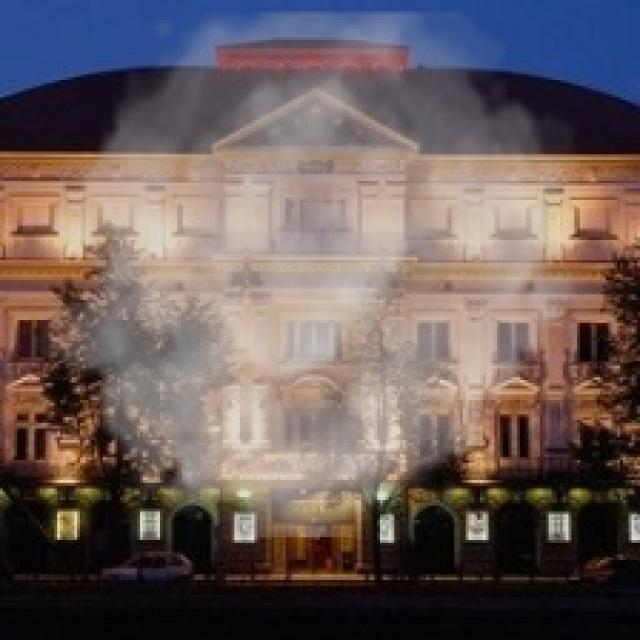Smoke: (34, 11, 600, 538)
